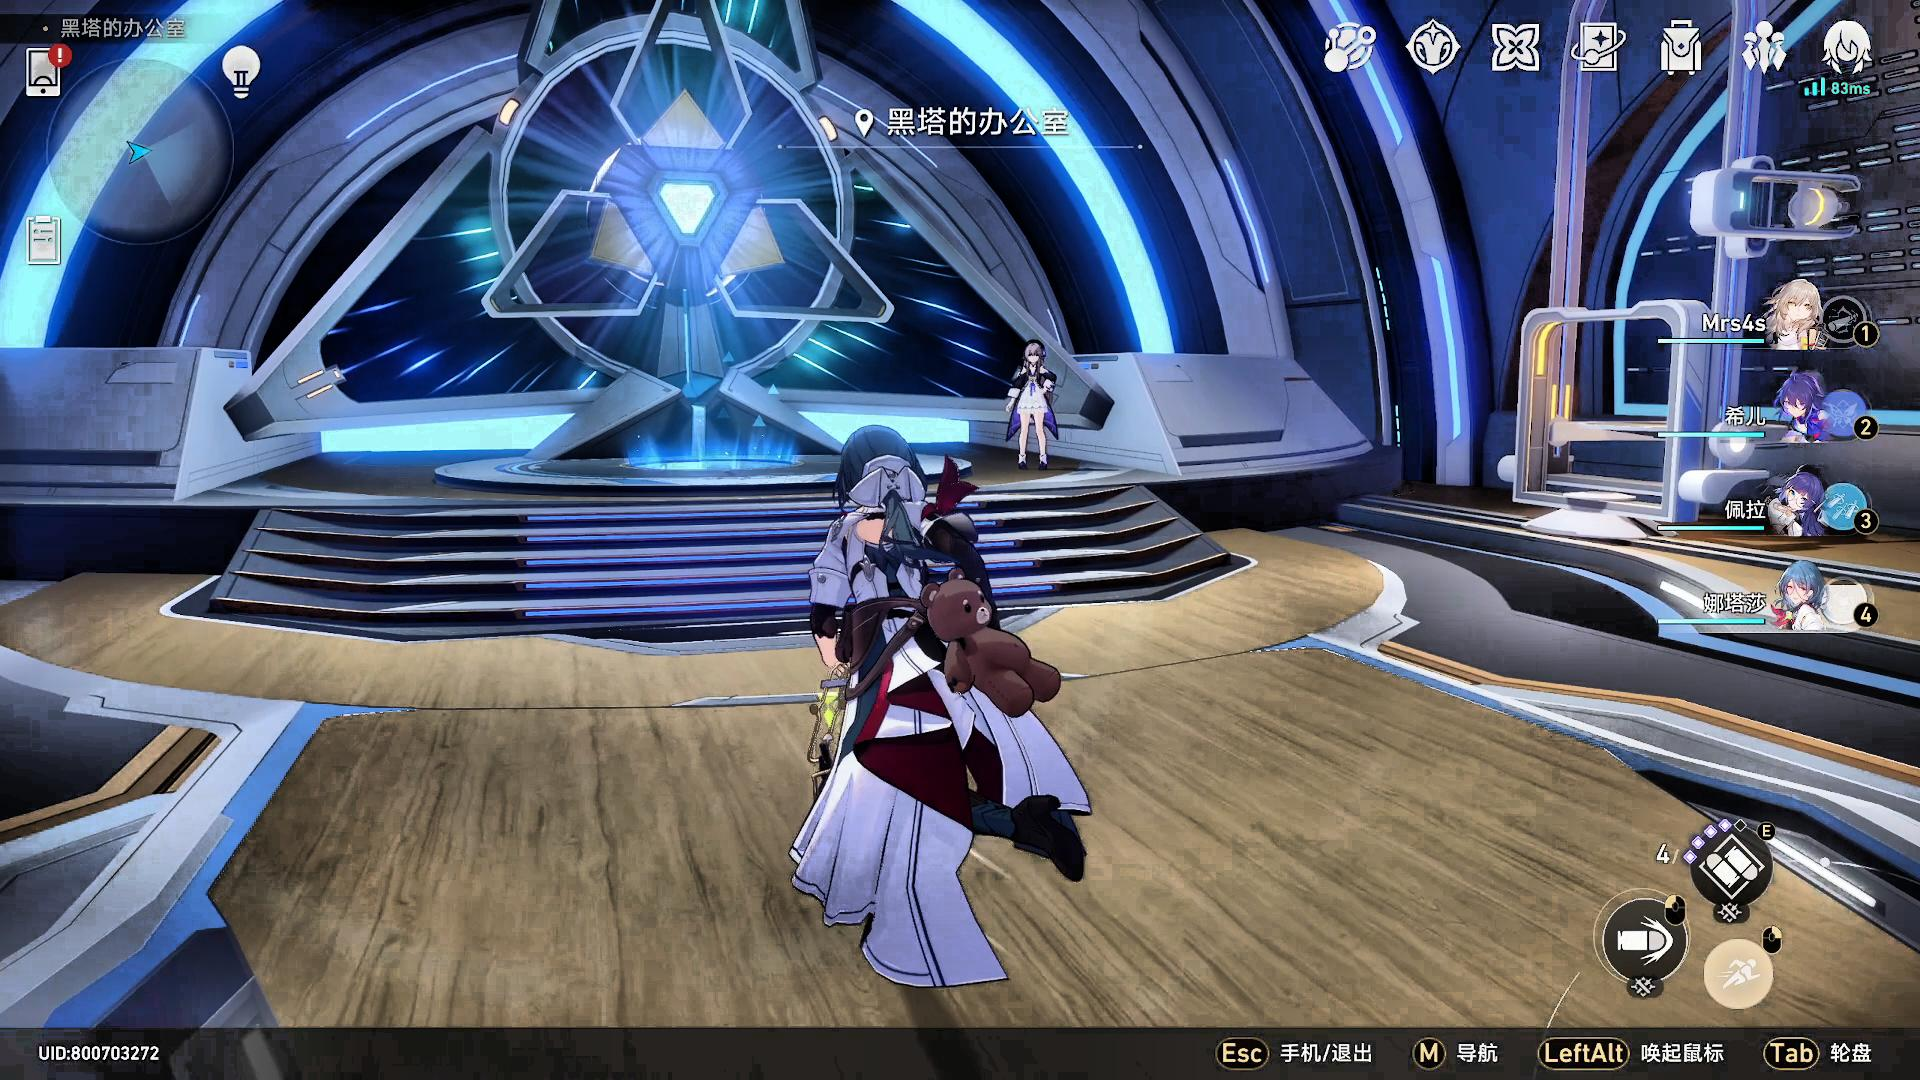Self: (789, 431, 1092, 989)
TeamMate: (1004, 338, 1060, 472)
